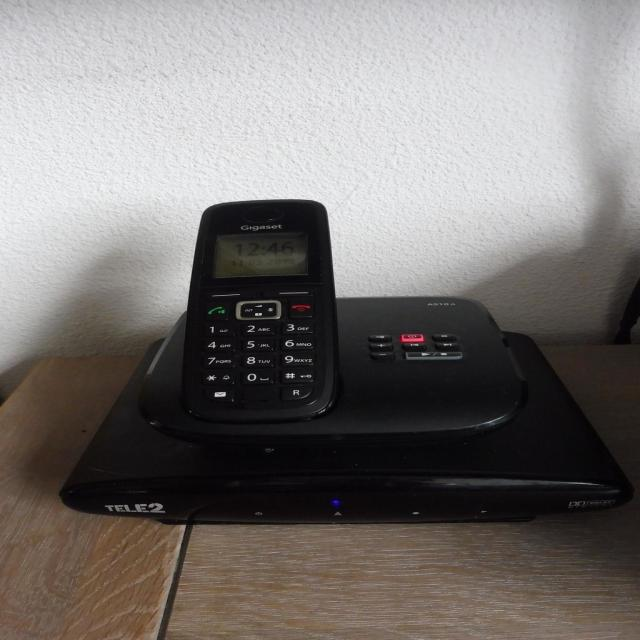Phone: (122, 184, 542, 446)
